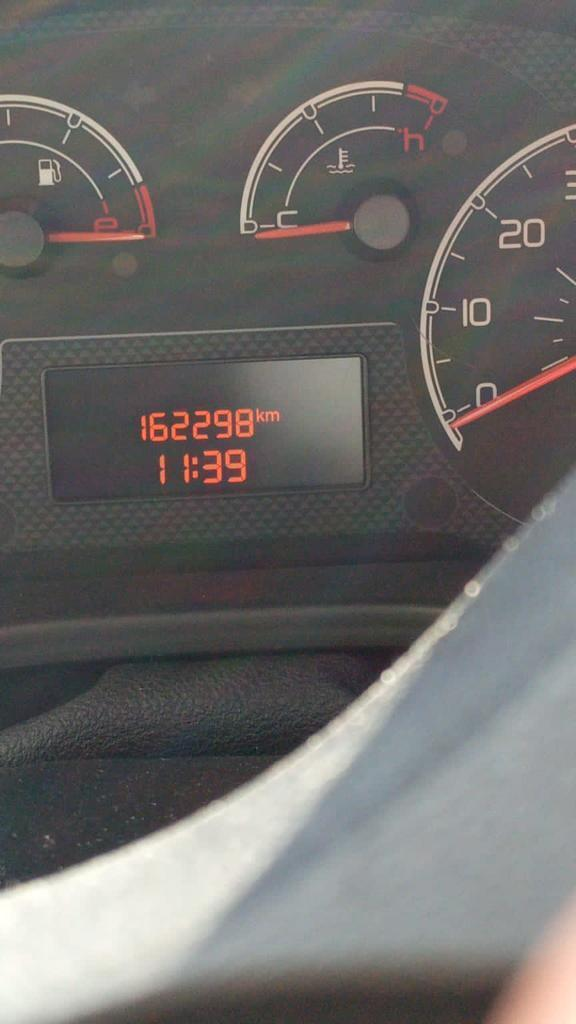1: (182, 452, 190, 484), (158, 453, 166, 484), (140, 414, 147, 441)
2: (191, 409, 210, 440), (170, 411, 189, 440)
3: (202, 450, 222, 483)
6: (149, 411, 168, 442)
8: (235, 408, 254, 437)
9: (223, 448, 247, 482), (213, 408, 232, 438)
X: (190, 456, 199, 479), (265, 410, 280, 422), (255, 407, 265, 423)
odometer: (36, 349, 373, 509)
